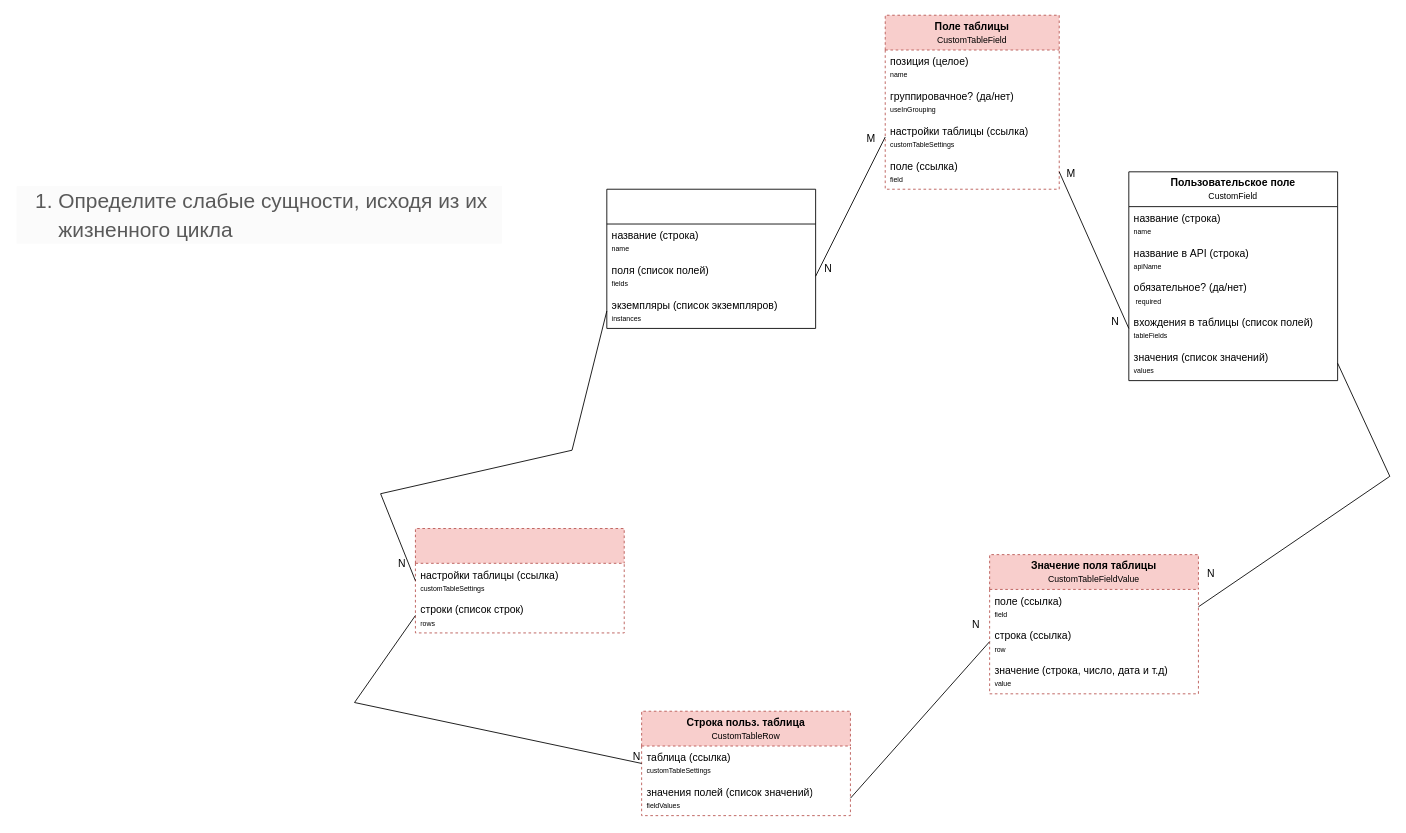
The diagram is 1406 pixels wide and 833 high, and some of its shapes have lost their labels. Each missing label, with the box of its shape:
Настройки таблицы CustomTableSettings: (606, 188, 816, 328)
Польз. таблица CustomTable: (415, 528, 624, 633)
